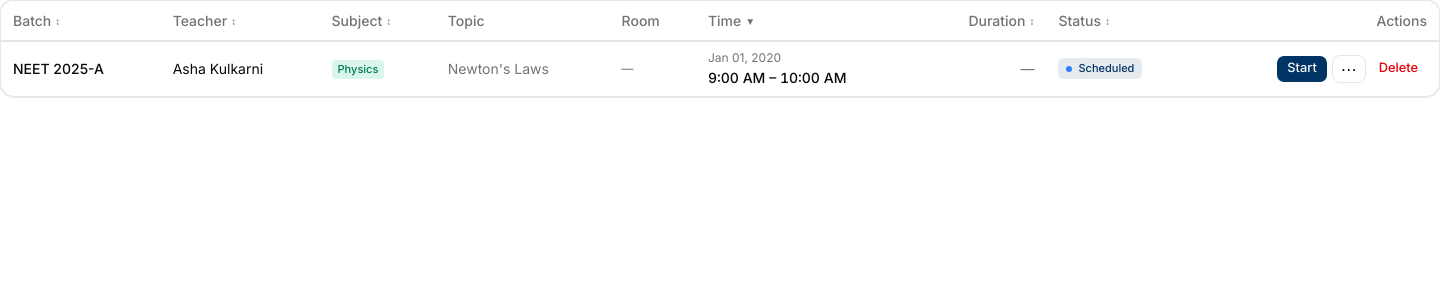
Test: LectureTable › past-dated lecture: Start is the quick-action; menu offers End of day
Expected: the button "Start" is shown, [1276,54,1328,82]
Click the button named "more actions for lecture" at (1349,68), box [1332,54,1366,82]
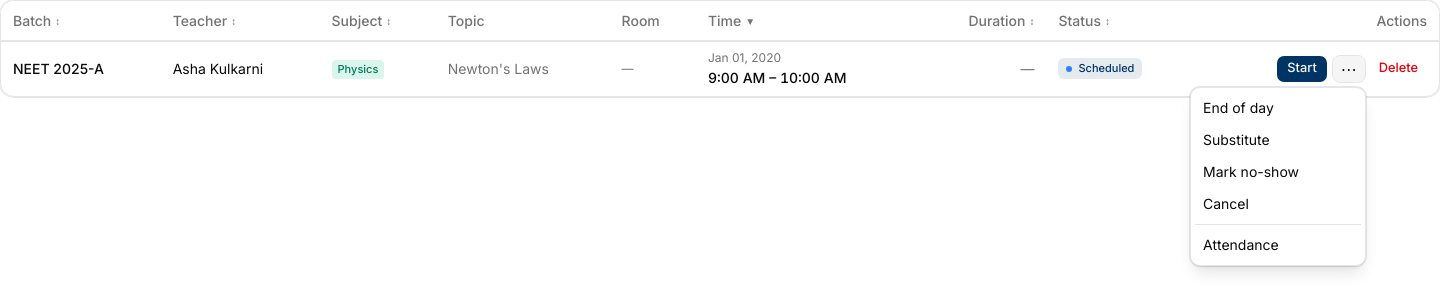
Now the menu is shown, box [1190,87,1366,266]
Now the menu item "End of day" is shown, box [1203,99,1274,116]
